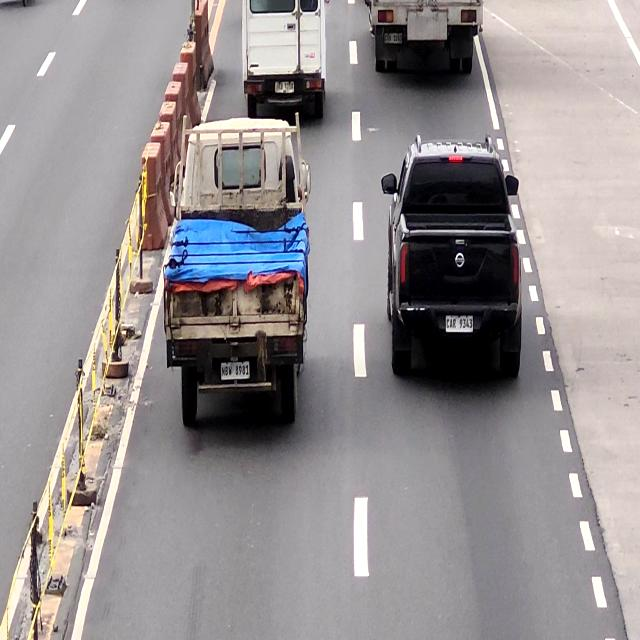Car: (384, 137, 523, 384), (241, 0, 329, 122)
License-Plate: (220, 362, 251, 382), (445, 314, 474, 332), (274, 79, 295, 95), (383, 30, 403, 44)
Truck: (162, 116, 311, 432), (367, 0, 484, 77)
